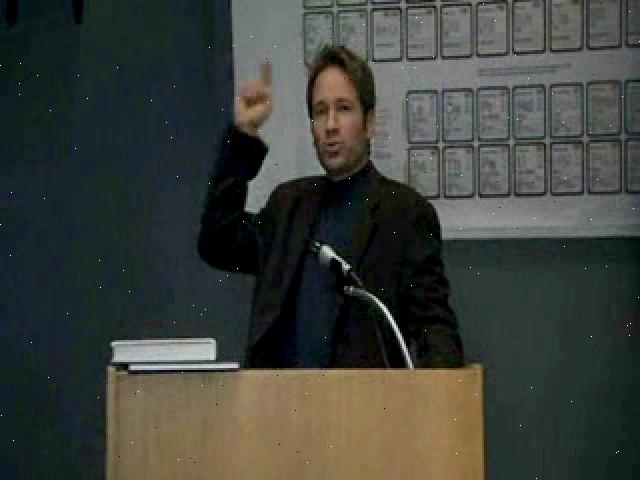T: (182, 42, 463, 376)
